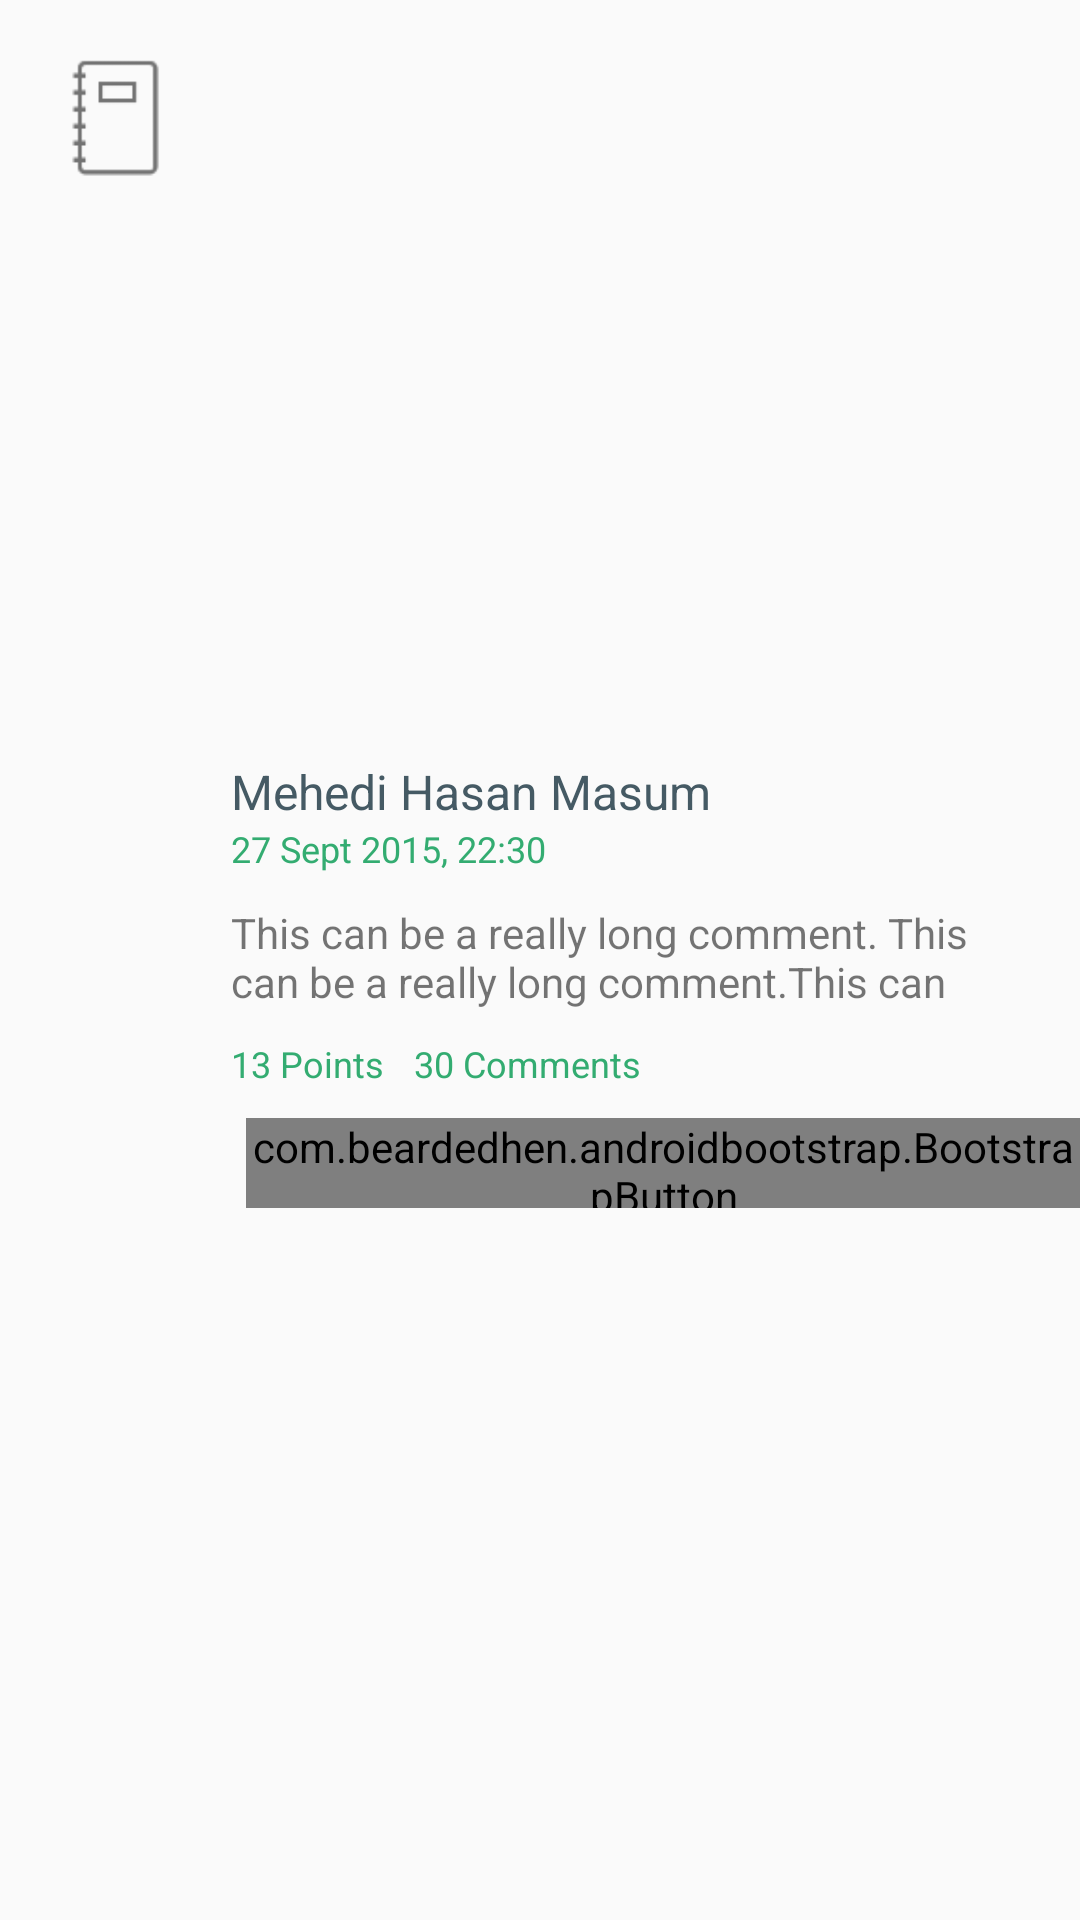

Locate icon controls on the screen. Image size 1080x1920, boxes as BBox(x1, y1, x2, y2).
notebook: BBox(72, 61, 159, 176)
